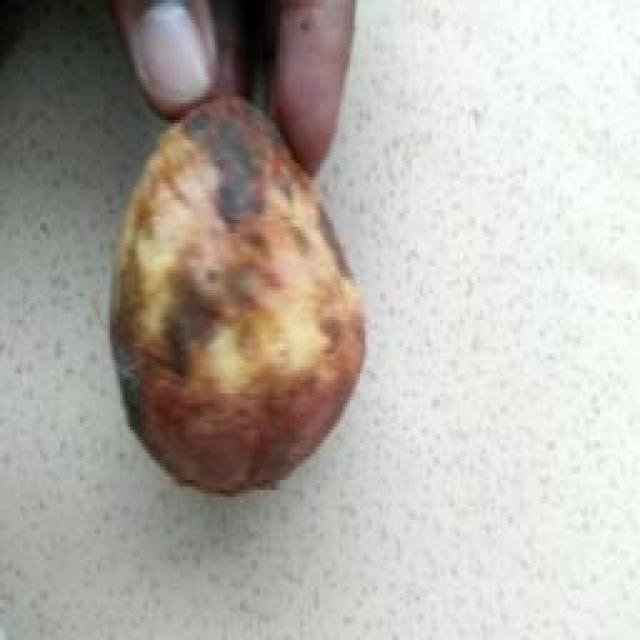Bad_Guava: (111, 98, 364, 492)
